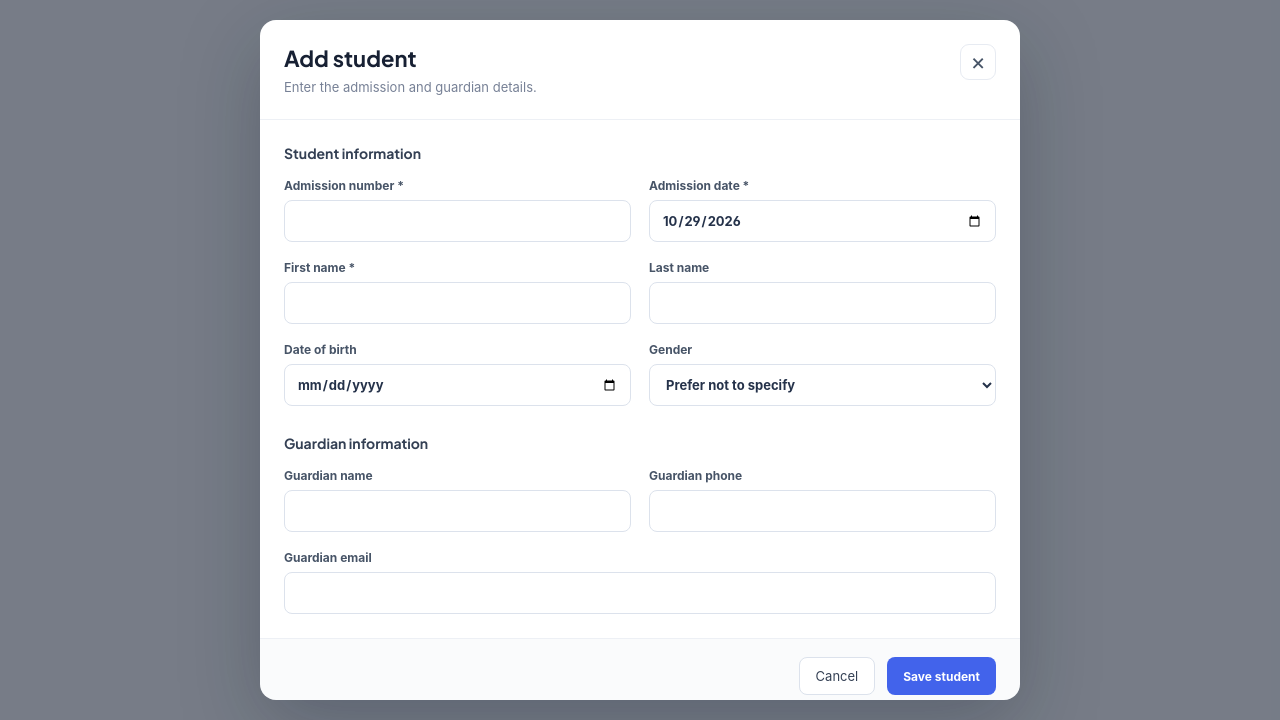
Test case: StudentForm › displays an API error and preserves entered form data
Type "ADM-202" into the field labelled "Admission number *" at (458, 221), box [284,200,631,242]
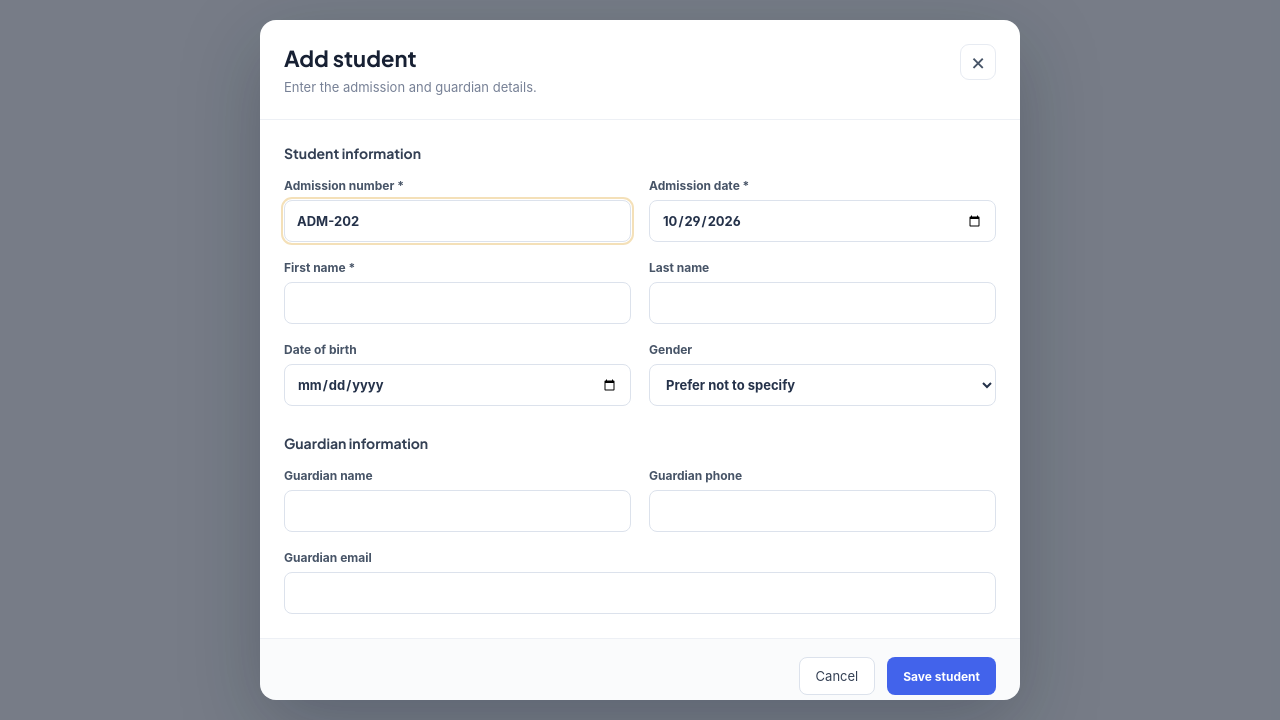
Type "Sara" into the field labelled "First name *" at (458, 303), box [284,282,631,324]
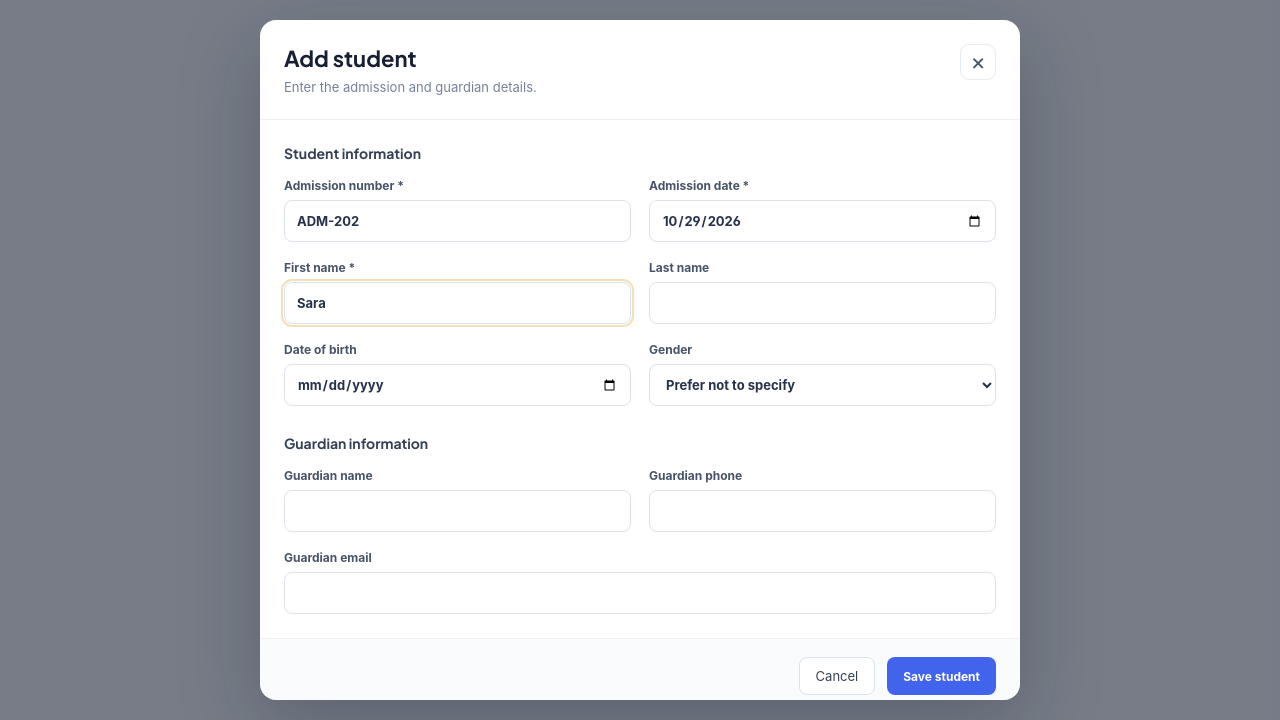
Click the button "Save student" at (942, 676), box [887,657,996,695]
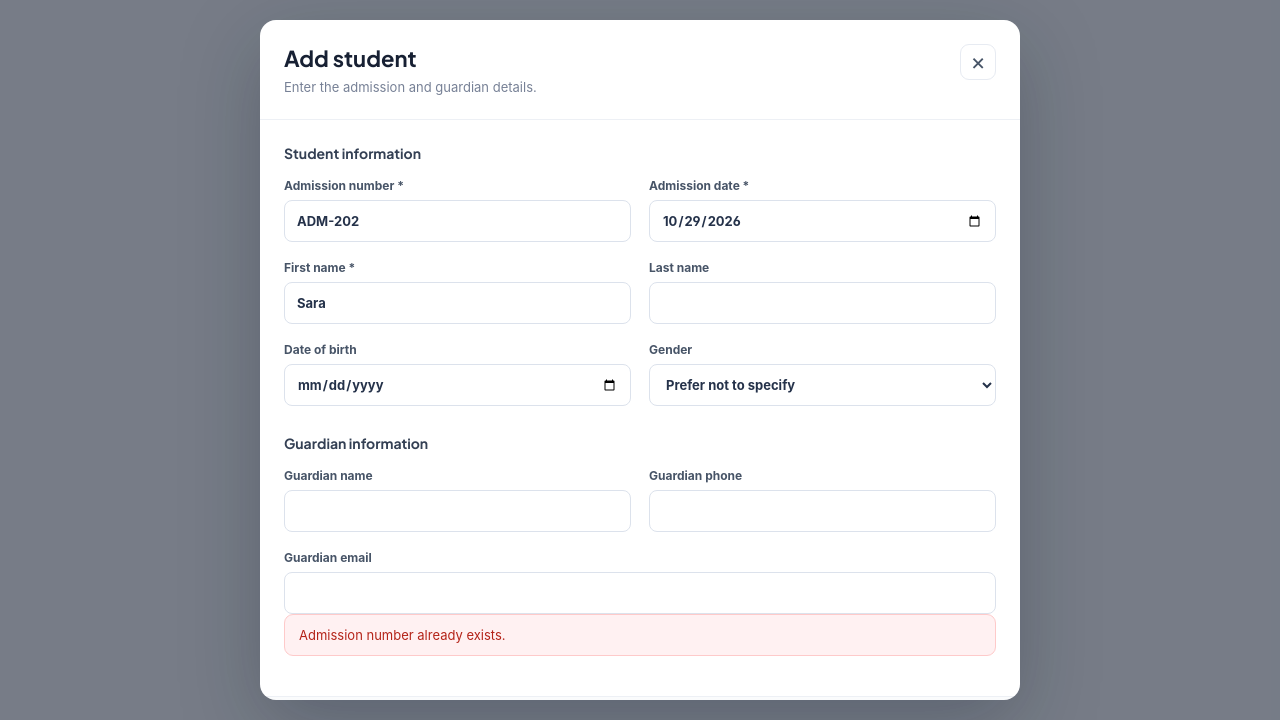
Now the message reads "Admission number already exists.", box [299,627,506,643]
